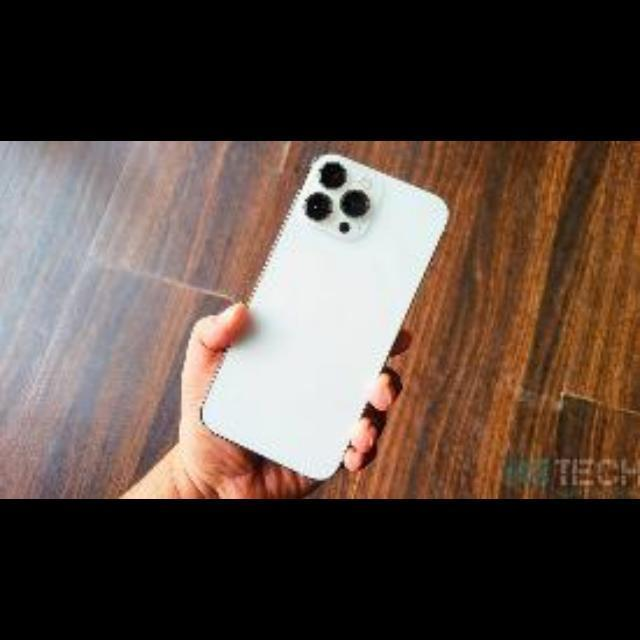phone: (163, 133, 478, 501)
